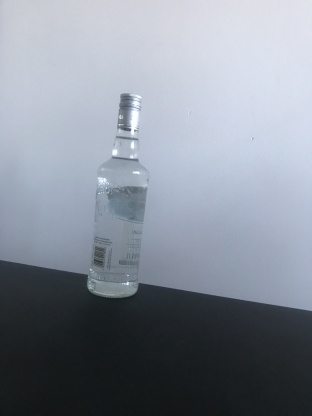nakretka: (115, 90, 142, 132)
